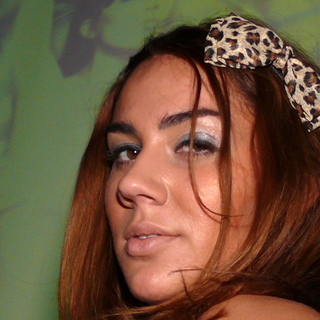eye: (172, 131, 228, 166), (108, 141, 146, 165)
